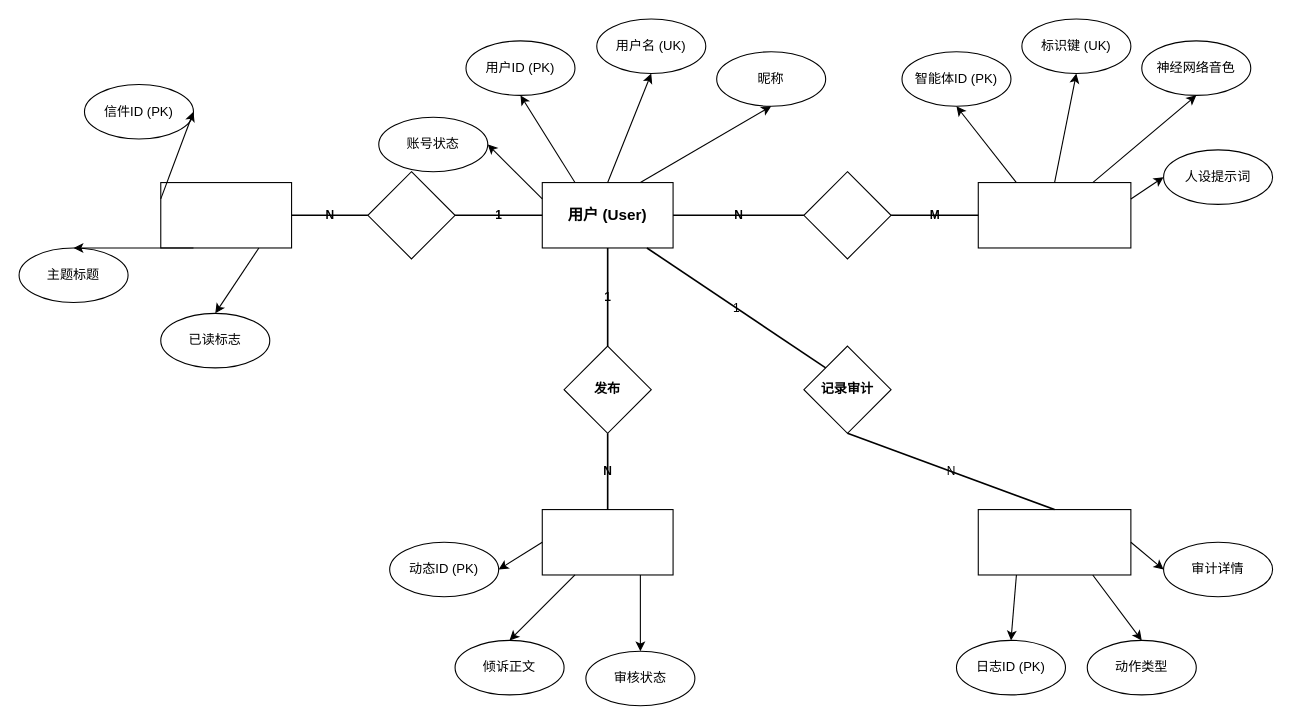
Some shapes in this 1292 by 725 pixel diagram are drawn without their labels. The shapes that lost their labels are listed below. From the top down, each one's box as (x1, y1, x2, y2) in pixels, then its label:
(160, 181, 292, 248): 治愈信件 (Letter)
(367, 171, 455, 259): 接收
(803, 171, 891, 259): 对话
(977, 181, 1131, 248): 智能体 (Character)
(541, 508, 673, 575): 树洞动态 (Post)
(977, 508, 1131, 575): 操作日志 (Admin Log)
